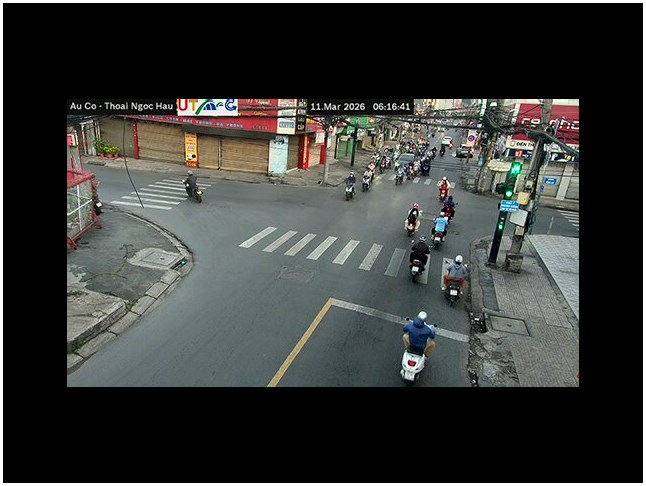motorbike: (409, 238, 431, 284), (431, 213, 449, 250), (183, 173, 204, 202)
